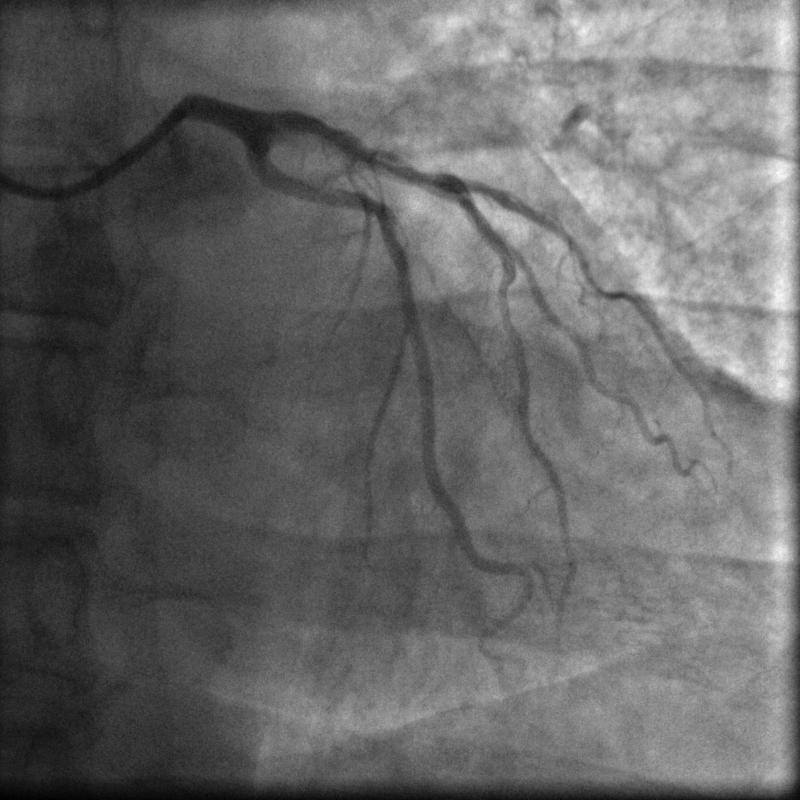Stenosis: (370, 152, 465, 192)
